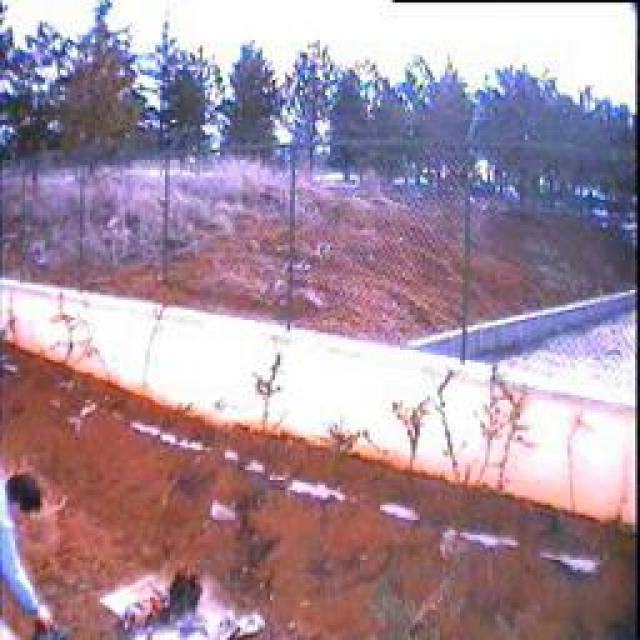Fire: (142, 586, 190, 623)
